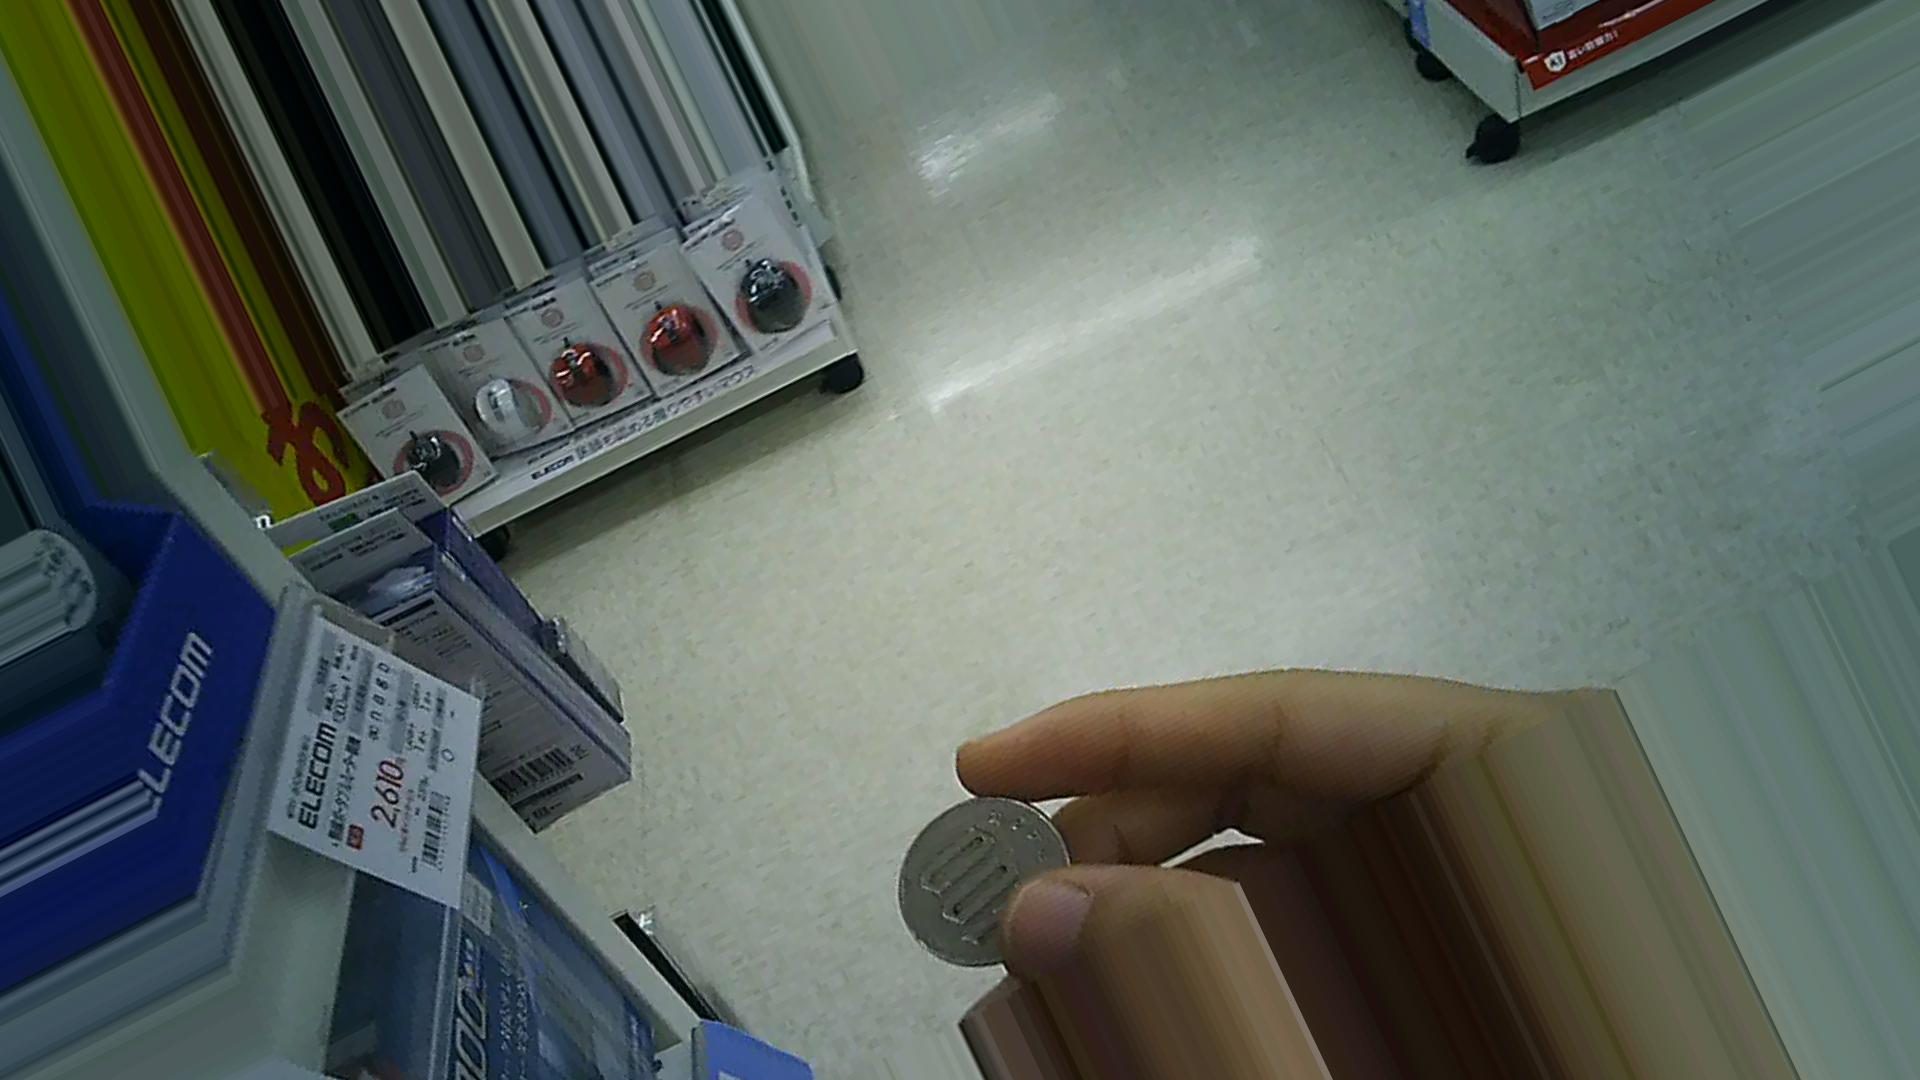100 Yen: (884, 793, 1096, 978)
